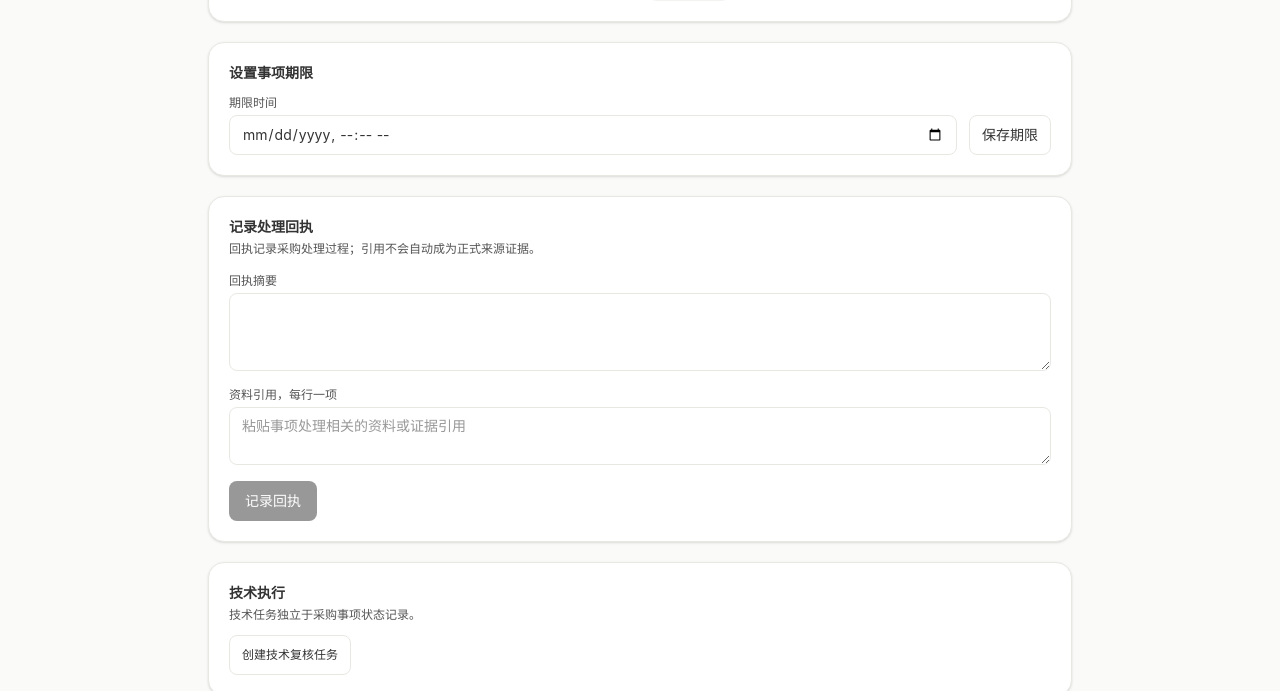
Test: ProcurementCases › keeps the receipt draft and refreshes the case when a stale-version command conflicts
This screenshot has width=1280, height=691.
(page scrolled)
Type "尚未提交的处理说明" into the text box labelled "回执摘要" at (640, 332), box [229, 292, 1051, 370]
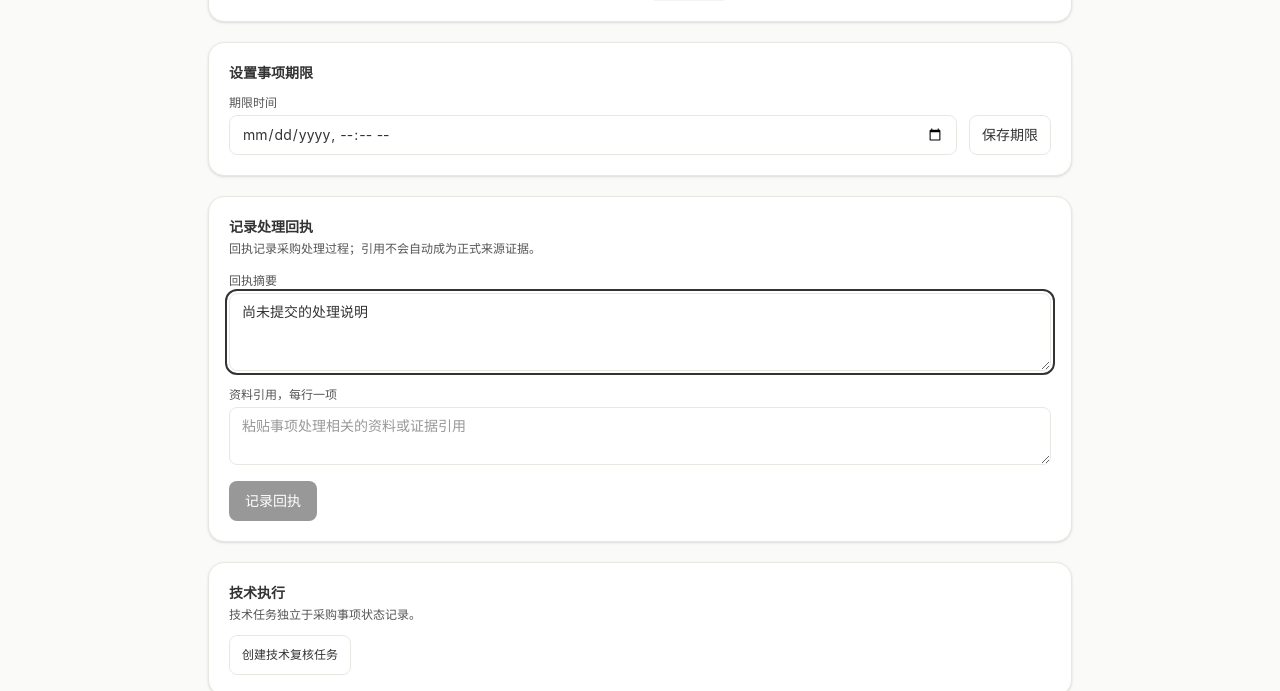
Type "evidence://pending" into the text box labelled "资料引用，每行一项" at (640, 436), box [229, 406, 1051, 464]
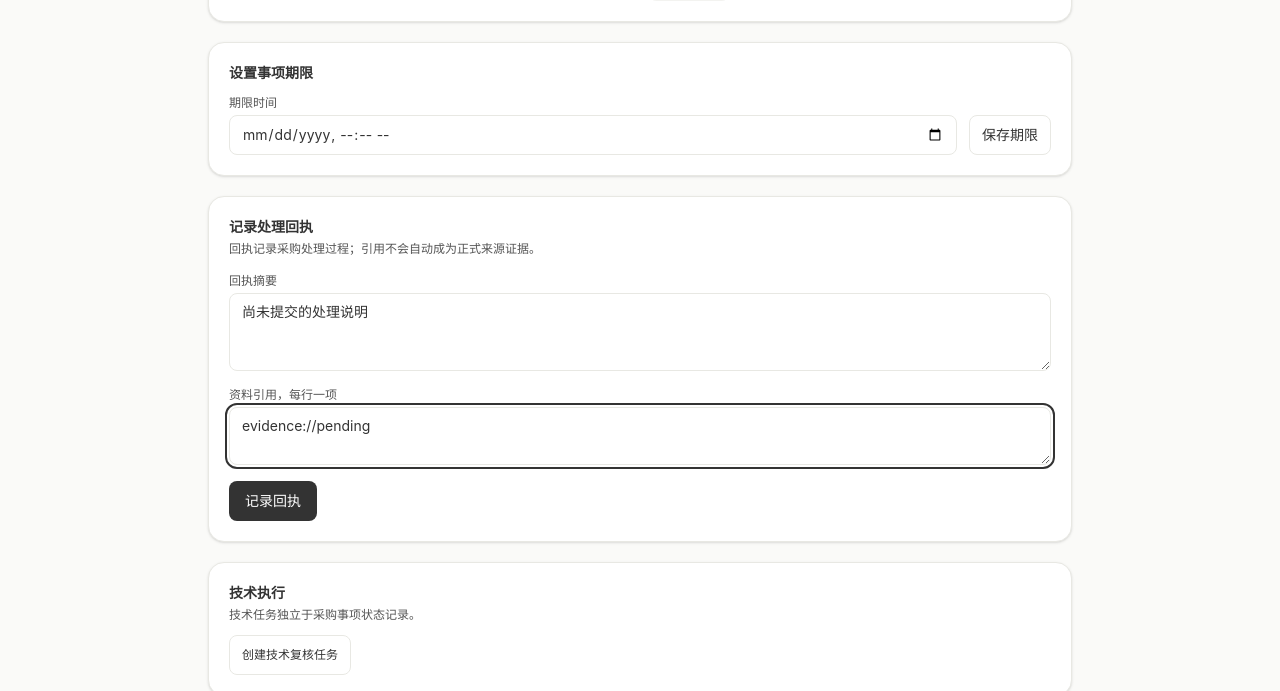
Click the button "记录回执" at (273, 500), box [229, 480, 317, 520]
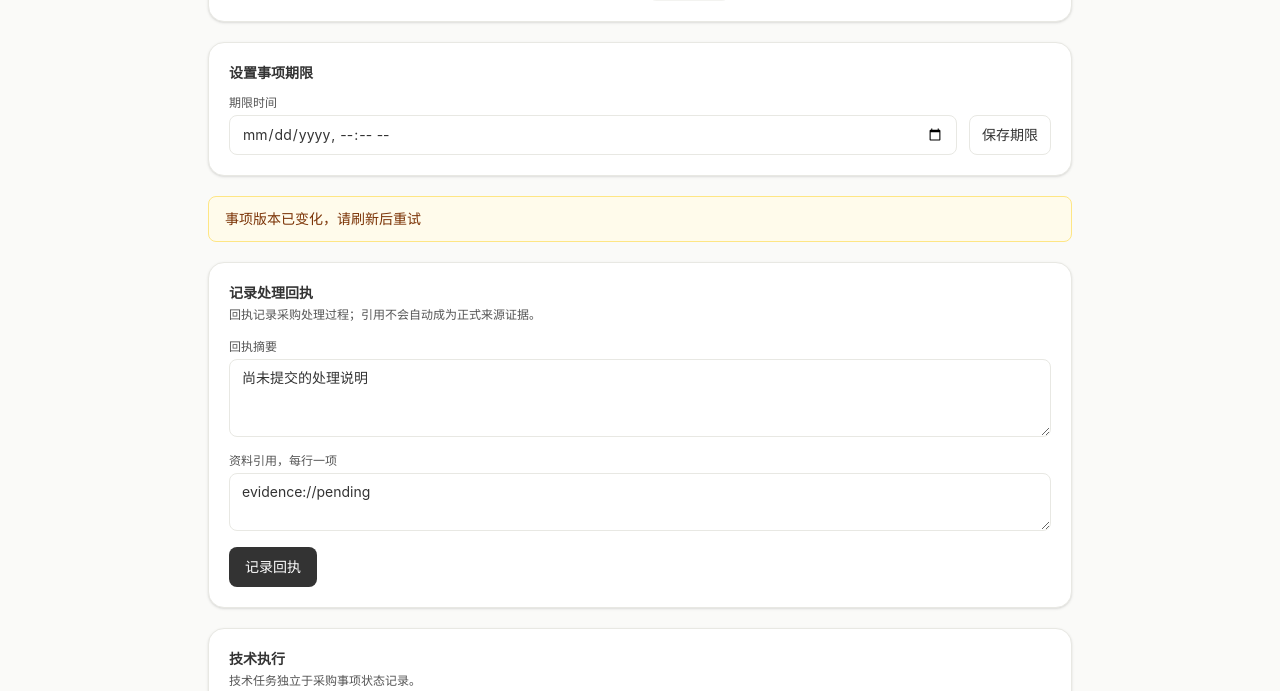
Expected: the message shows "事项版本已变化", [225, 210, 421, 226]
